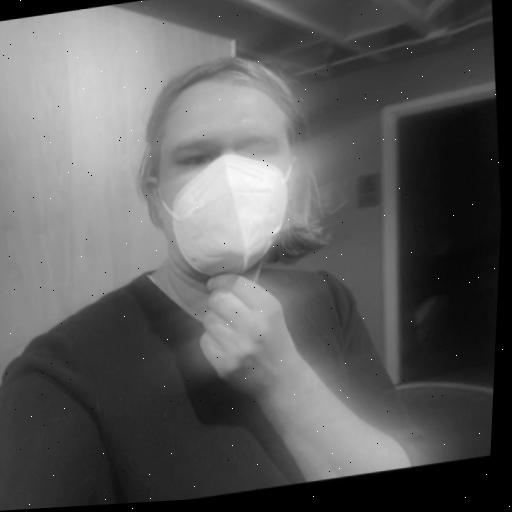mask: (117, 37, 334, 305)
